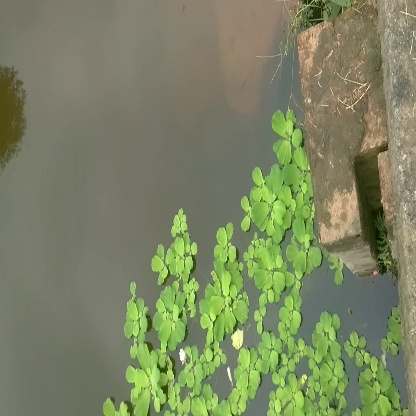leaf: (122, 286, 152, 346)
